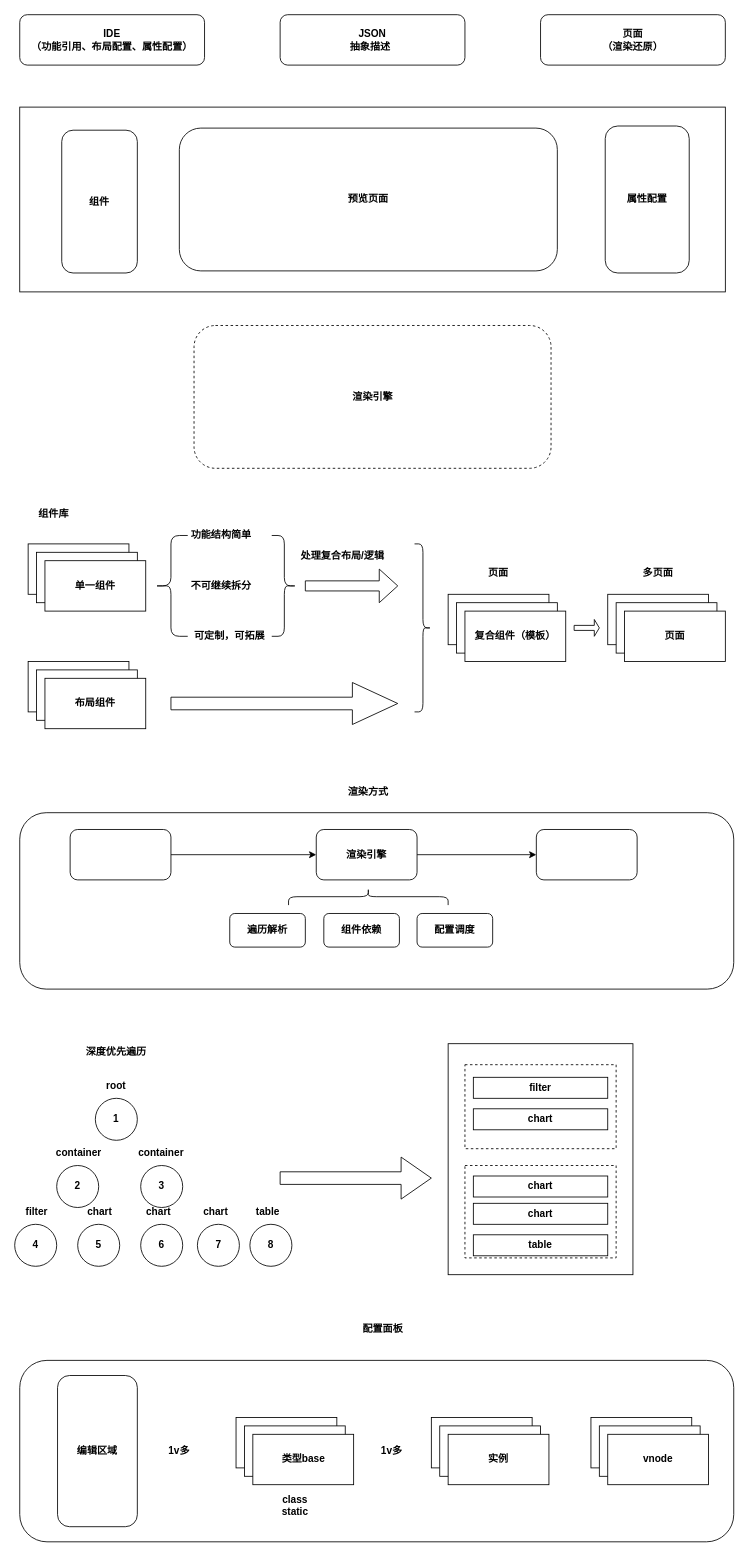
Image size: 748x1557. Some labels were removed from this diagram. Each missing label, with the centre of its shape:
JSON: the point at 120,854
组装协议: the point at 586,854
